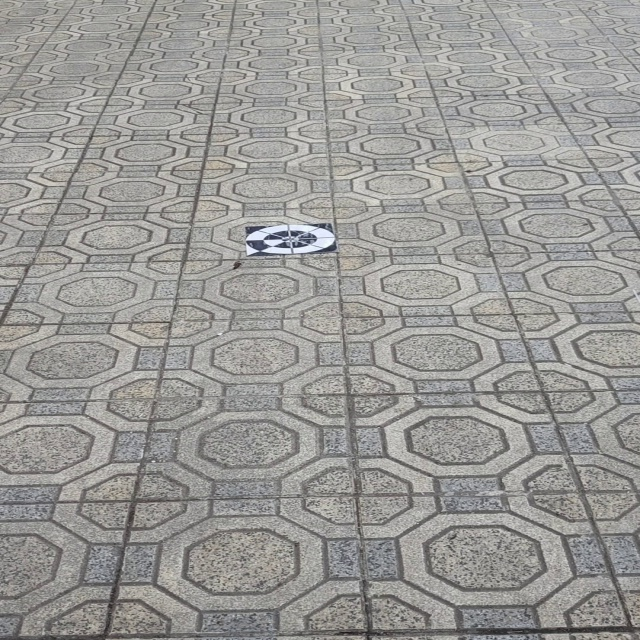landing-zone: (242, 218, 340, 255)
